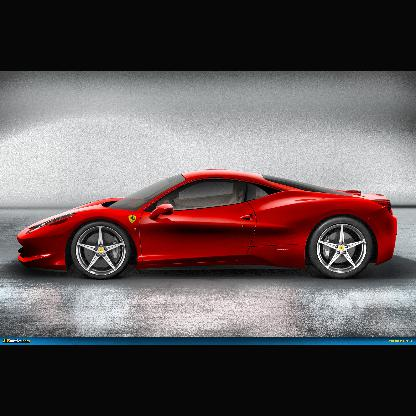Ferrari 458 Italia Coupe 2012: (18, 167, 398, 281)
